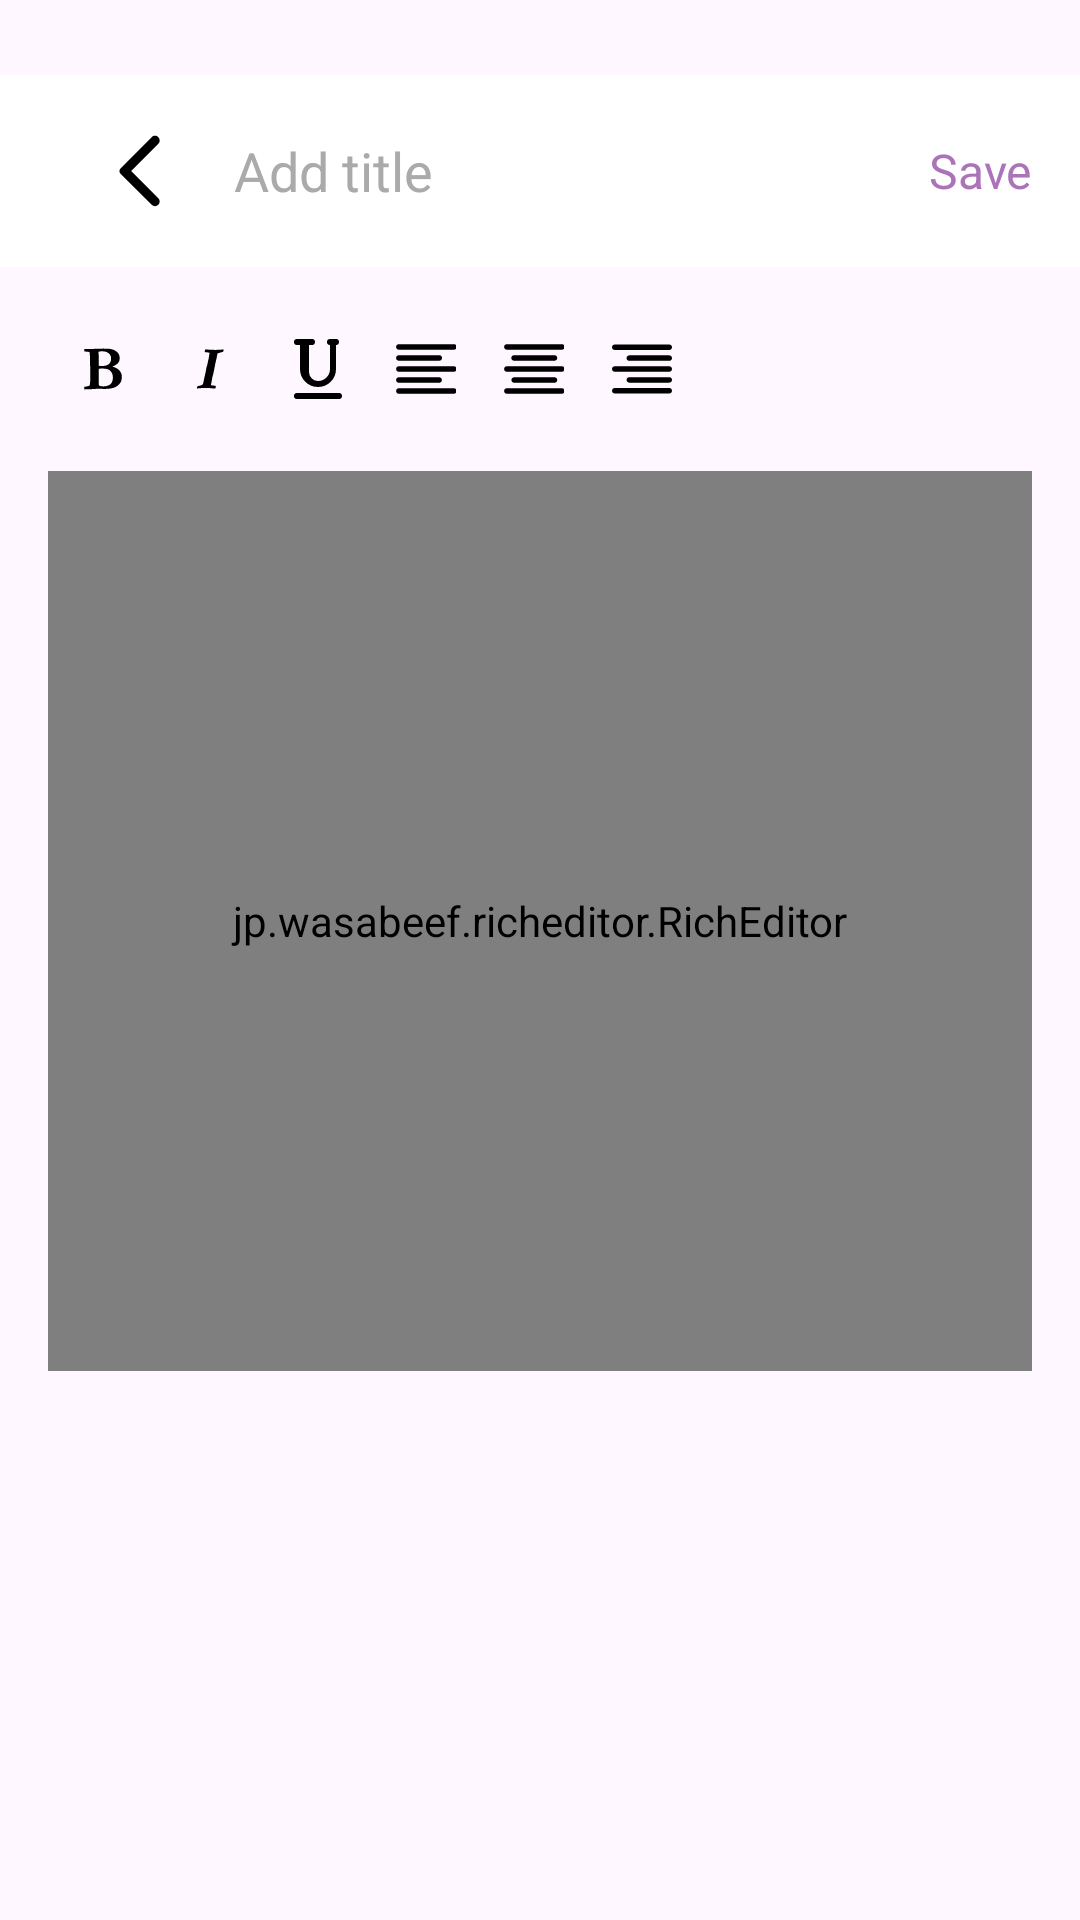

Icons on this 1080*1920 Android screen, each with its box as (x1, y1, x2, y2):
Align Center: (504, 344, 564, 394)
Align Left: (396, 344, 456, 394)
Align Right: (612, 344, 672, 394)
Back: (119, 135, 160, 207)
Bold: (84, 348, 122, 390)
Italic: (197, 349, 224, 389)
Underline: (294, 339, 342, 399)
